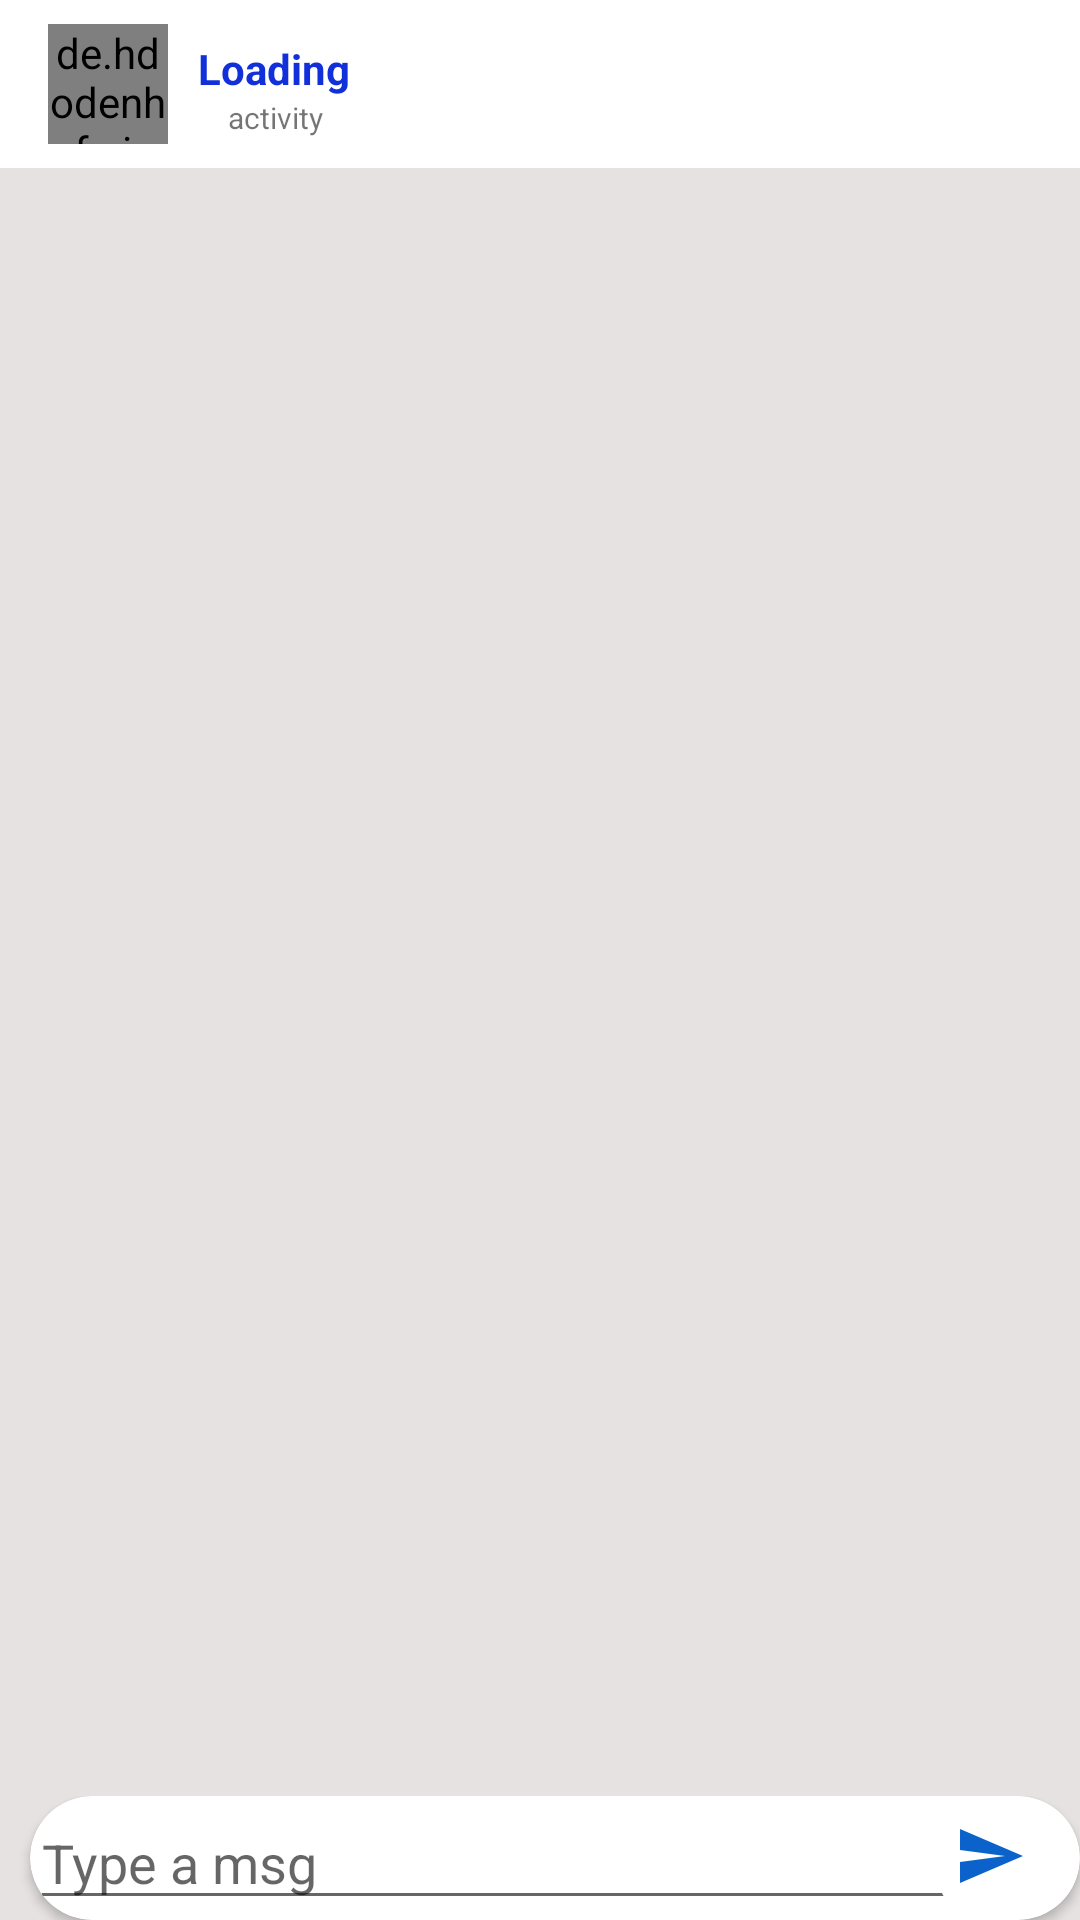

Where icons sit on this 1080 x 1920 app screen, as box(x1, y1, x2, y2):
send: box(960, 1829, 1023, 1883)
